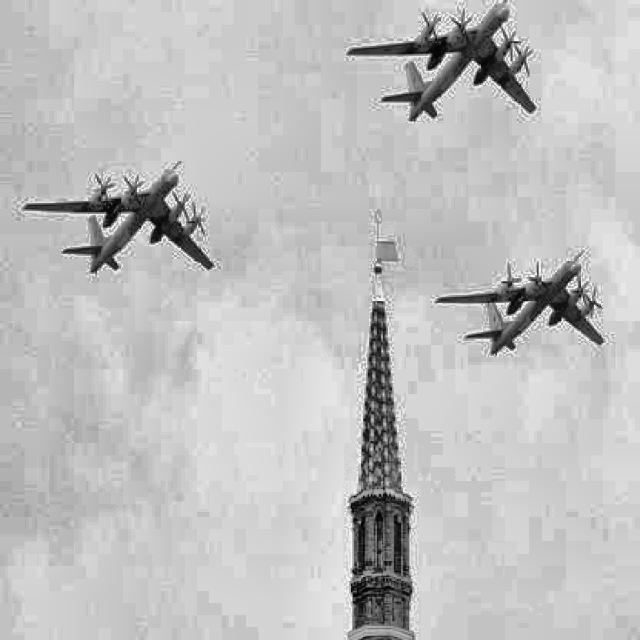Tu95: (347, 1, 536, 122), (22, 160, 215, 275), (436, 251, 604, 355)
